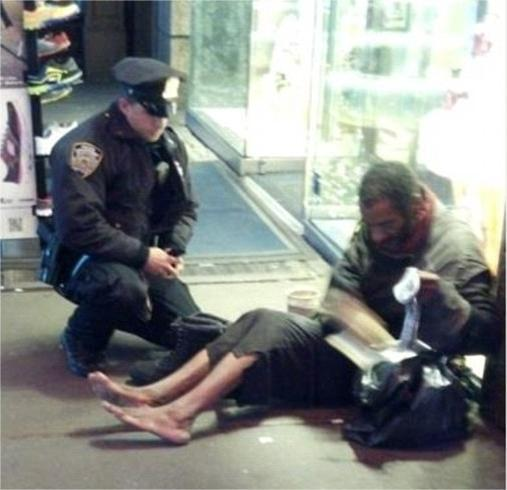bending: (102, 158, 496, 447), (35, 57, 202, 372)
